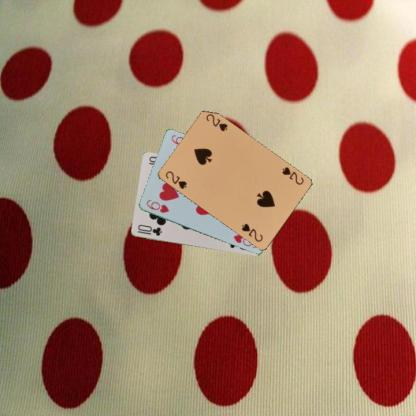10c: (135, 222, 163, 237)
2s: (162, 168, 188, 190), (279, 164, 305, 186)
6h: (144, 197, 170, 214)
